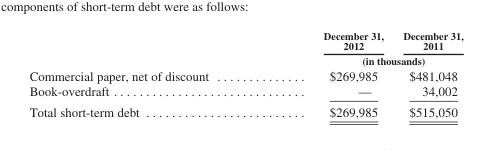table: (28, 28, 462, 118)
table column: (28, 28, 265, 118), (265, 28, 392, 118), (392, 28, 462, 118)
table column header: (28, 28, 462, 67)
table row: (28, 28, 462, 53), (28, 83, 462, 101), (28, 101, 462, 118), (28, 67, 462, 83), (28, 53, 462, 67)
table spanning cell: (265, 53, 462, 67)
